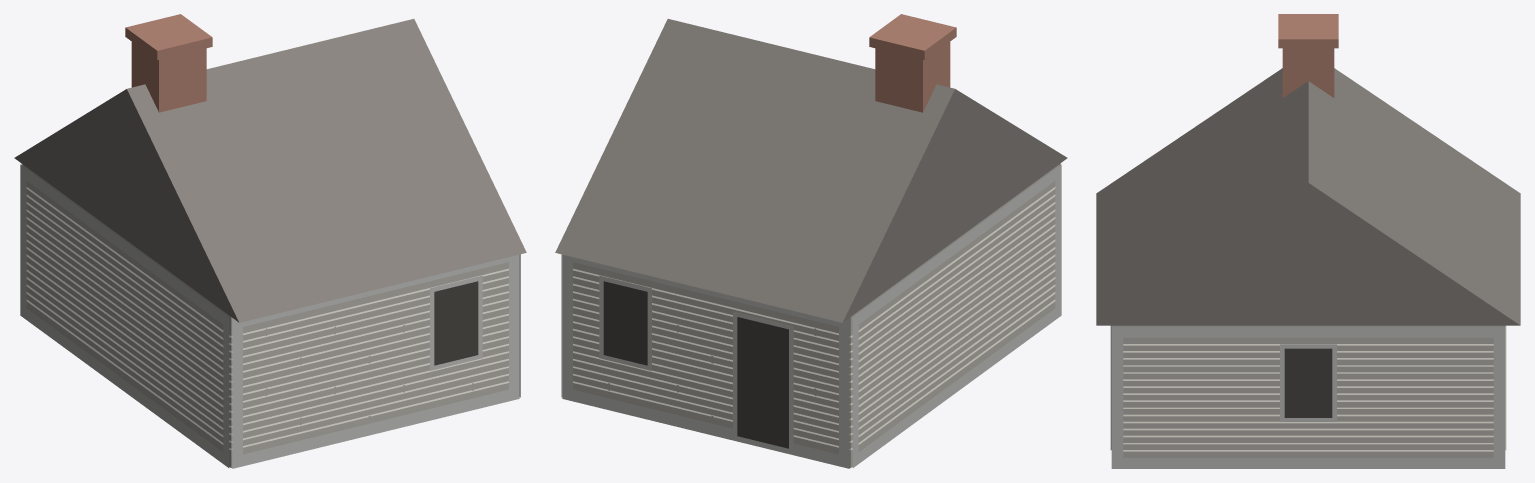
Rendered from recon_1835_blk_lake_clark_d3_02__inferred_1835.glb.
The picture shows the model from 3 angles, left to right: view 1: azimuth 30°, elevation 25°; view 2: azimuth 150°, elevation 25°; view 3: azimuth 270°, elevation 25°; orthographic projection. The views are drawn at different scales.
Parts seen in each view (by area): view 1: recon_1835_blk_lake_clark_d3_02__inferred_1835; view 2: recon_1835_blk_lake_clark_d3_02__inferred_1835; view 3: recon_1835_blk_lake_clark_d3_02__inferred_1835.
Part boxes in pixels (x1=…): recon_1835_blk_lake_clark_d3_02__inferred_1835: x1=14, y1=14, x2=526, y2=468; recon_1835_blk_lake_clark_d3_02__inferred_1835: x1=555, y1=14, x2=1067, y2=468; recon_1835_blk_lake_clark_d3_02__inferred_1835: x1=1096, y1=14, x2=1520, y2=468.
Size of the model in its own units: 5.17 by 5.91 by 6.91.
